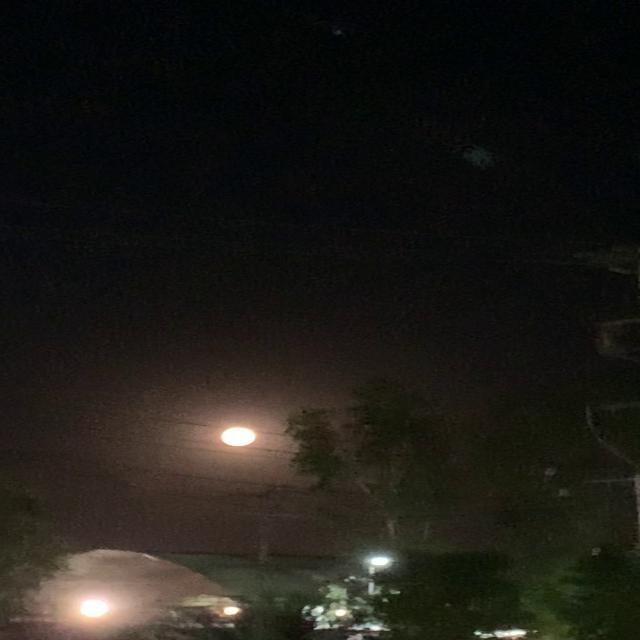moon: (214, 423, 256, 448)
